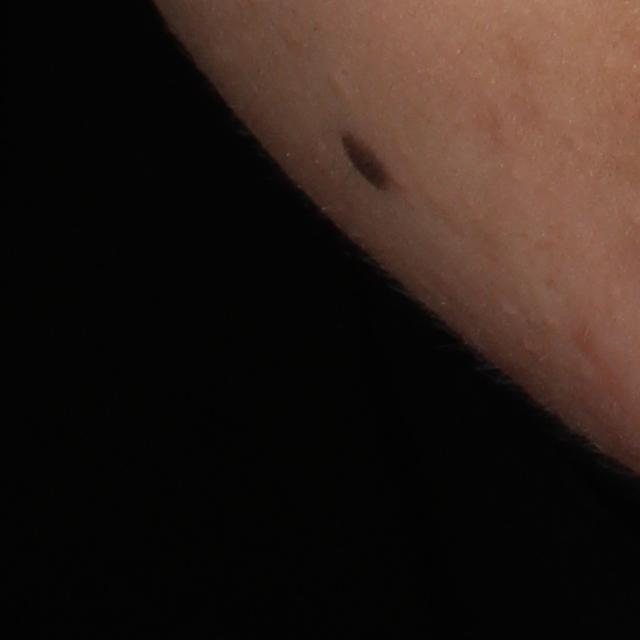comedo: (326, 73, 352, 99)
nevus: (335, 128, 395, 193)
